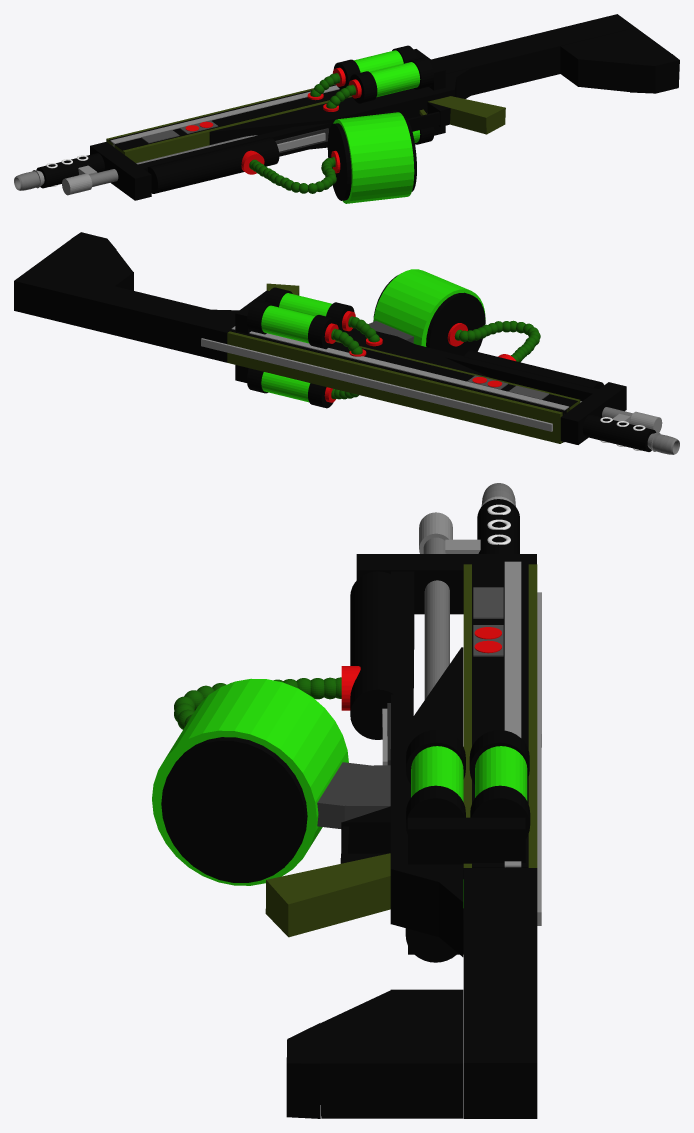
Rendered from Autoshotgun.fbx.
3 views of the same model, one above another, from view 1: azimuth 30°, elevation 25°; view 2: azimuth 150°, elevation 25°; view 3: azimuth 270°, elevation 25° (orthographic). The views are drawn at different scales.
Visible parts, largest first — view 1: Cube.003, Cylinder.002, Cylinder.001, Cube.005, Cube.001, Cube, Cube.004, Cube.002, Cube.021, Cube.008, Cube.014, Cube.006 (+19 smaller); view 2: Cube.003, Cube, Cylinder.002, Cube.019, Cube.021, Cylinder.006, Cube.012, Cube.014, Cube.004, Cube.022, Cylinder.004, Cylinder.021 (+14 smaller); view 3: Cube.003, Cylinder.007, Cylinder.002, Cube.004, Cube.005, Cube.008, Cylinder.001, Cube.021, Cube.025, Cube, Cube.007, Cube.014 (+19 smaller).
Boxes of the visible parts, bbox=[...] form: Cube.003: bbox=[431, 14, 635, 95]; Cylinder.002: bbox=[333, 112, 414, 203]; Cylinder.001: bbox=[147, 137, 279, 193]; Cube.005: bbox=[579, 41, 671, 91]; Cube.001: bbox=[314, 83, 454, 124]; Cube: bbox=[106, 84, 351, 162]; Cube.004: bbox=[560, 28, 653, 86]; Cube.002: bbox=[209, 106, 331, 149]; Cube.021: bbox=[109, 84, 340, 150]; Cube.008: bbox=[427, 96, 505, 134]; Cube.014: bbox=[90, 142, 151, 200]; Cube.006: bbox=[630, 54, 679, 93]; Cube.003: bbox=[14, 266, 235, 362]; Cube: bbox=[227, 331, 580, 443]; Cylinder.002: bbox=[373, 269, 485, 346]; Cube.019: bbox=[201, 338, 552, 431]; Cube.021: bbox=[230, 329, 577, 442]; Cylinder.006: bbox=[426, 292, 485, 355]; Cube.012: bbox=[416, 344, 598, 401]; Cube.014: bbox=[560, 382, 626, 444]; Cube.004: bbox=[34, 252, 133, 290]; Cube.022: bbox=[231, 326, 568, 442]; Cylinder.004: bbox=[583, 414, 656, 451]; Cylinder.021: bbox=[261, 305, 314, 343]; Cube.003: bbox=[463, 868, 537, 1118]; Cylinder.007: bbox=[161, 737, 307, 882]; Cylinder.002: bbox=[152, 678, 348, 885]; Cube.004: bbox=[390, 989, 463, 1118]; Cube.005: bbox=[319, 990, 392, 1118]; Cube.008: bbox=[265, 853, 390, 937]; Cylinder.001: bbox=[350, 571, 393, 739]; Cube.021: bbox=[472, 563, 528, 867]; Cube.025: bbox=[408, 817, 525, 864]; Cube: bbox=[463, 564, 537, 867]; Cube.007: bbox=[391, 869, 463, 956]; Cube.014: bbox=[356, 554, 536, 614].
Size of the model in its own units: 10266 by 1322 by 2843.
